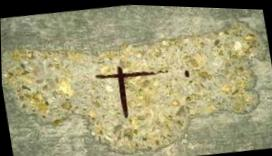damage: (1, 20, 261, 153)
